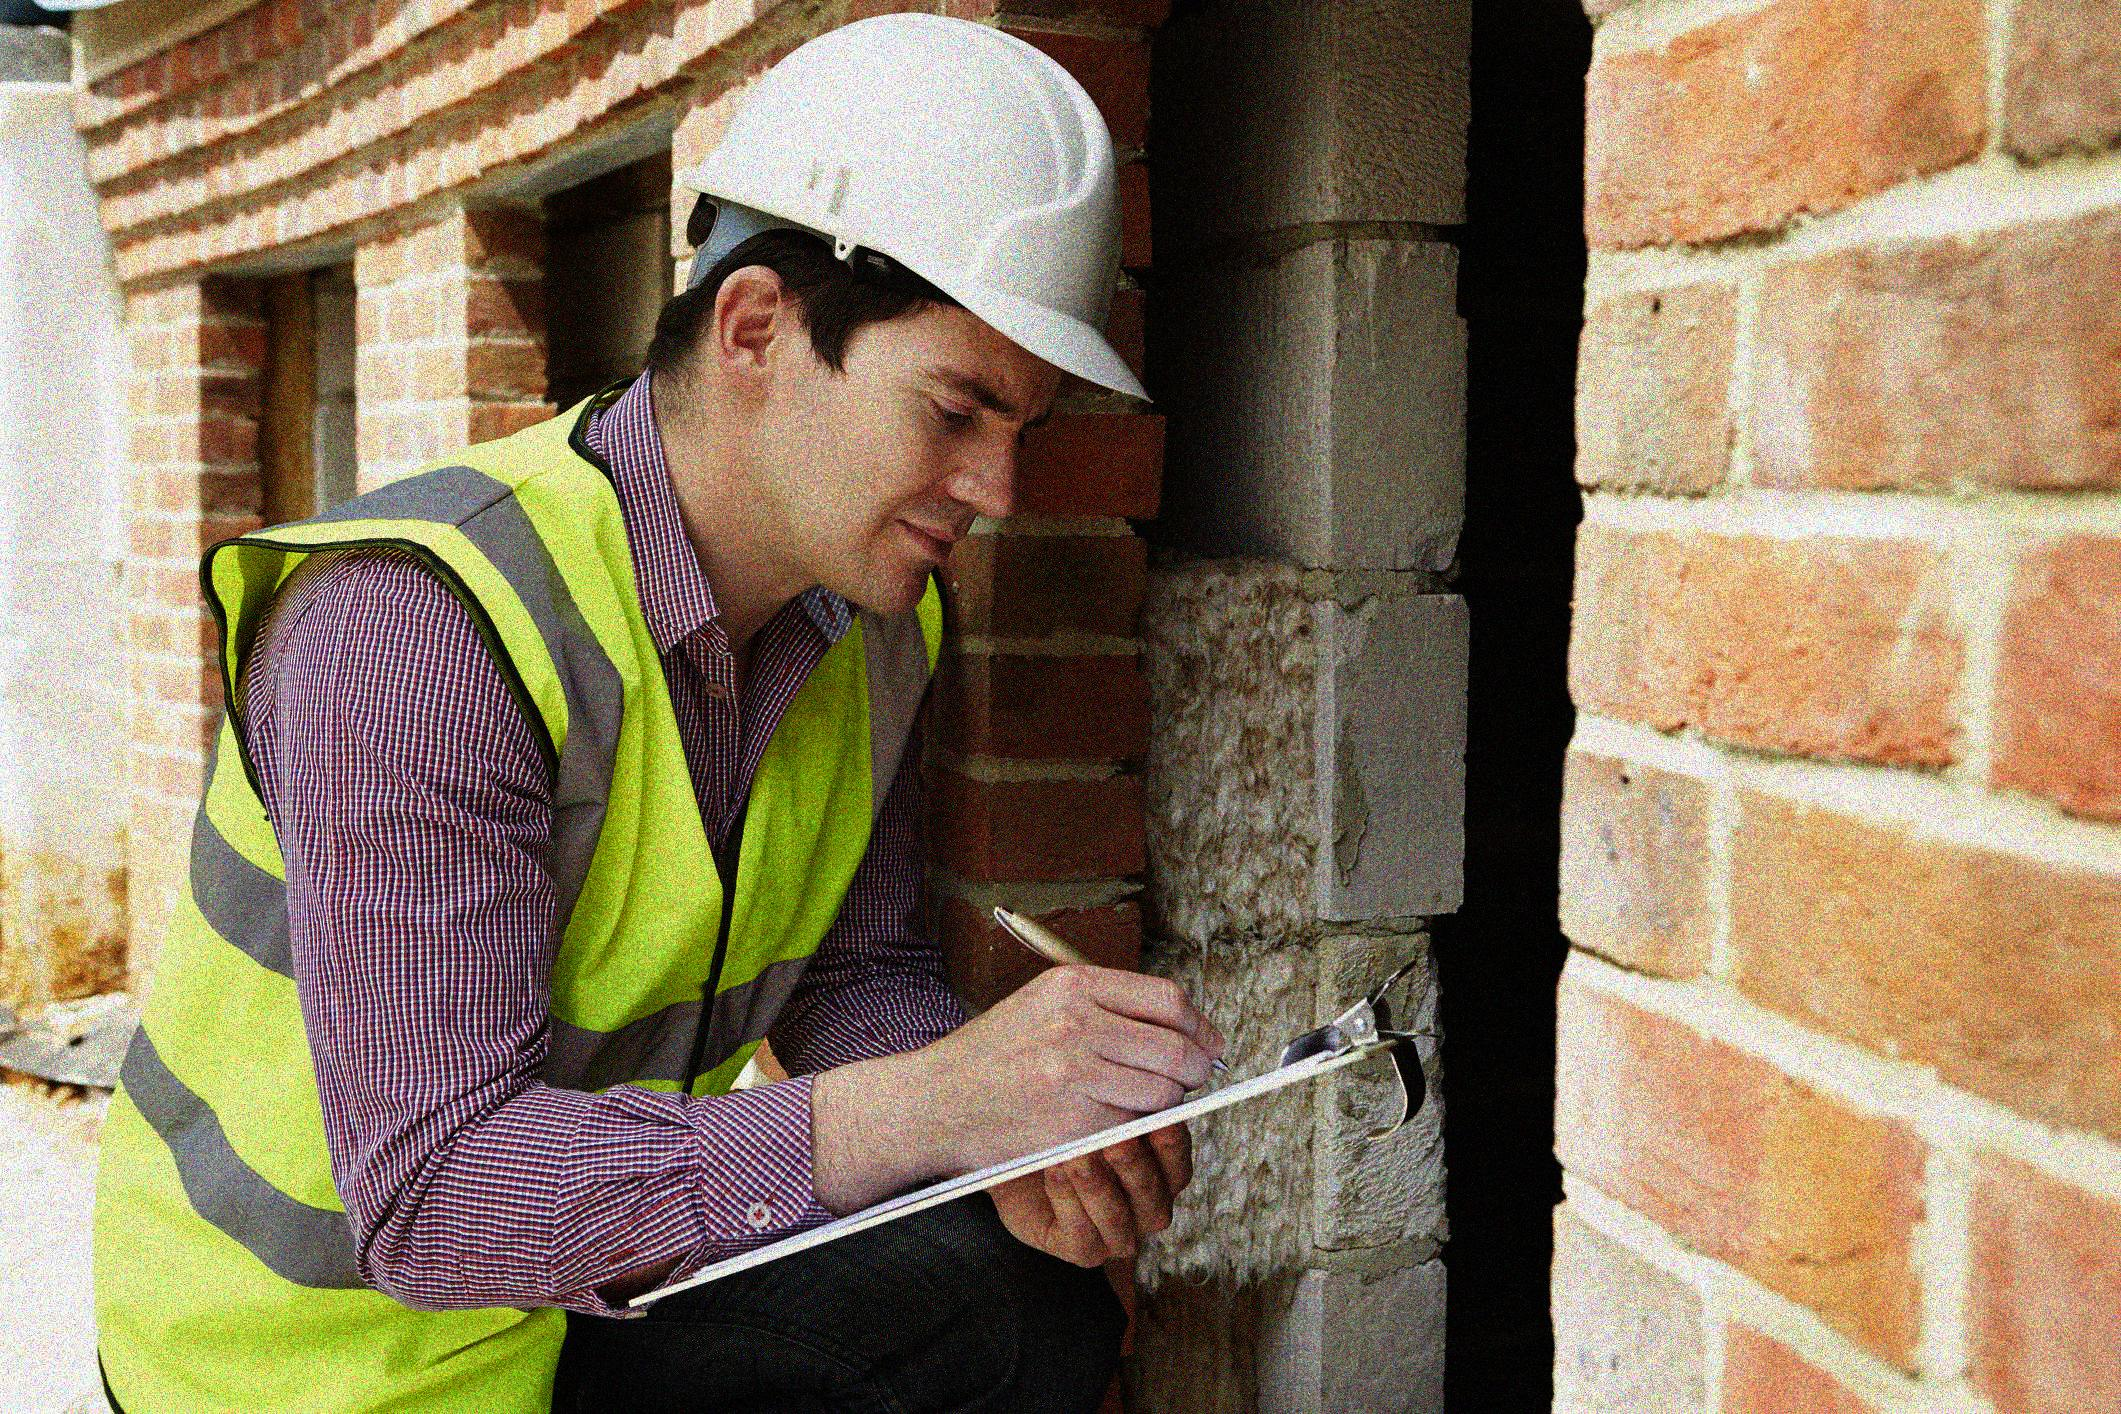helmet: (672, 14, 1152, 630)
